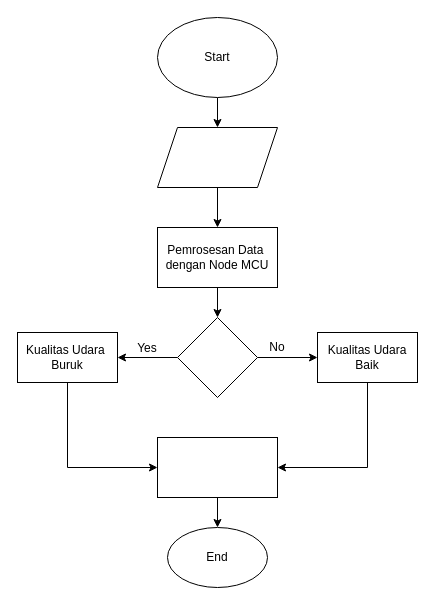
This 435x605 diagram has some shape labels left out. The box of each missing label's shape, as (x1, y1, x2, y2) in pixels:
Input Data Sensor Udara: (156, 126, 278, 188)
Mengirim Pesan Ke telegram: (156, 436, 278, 498)
Nilai ppm>999: (176, 316, 258, 398)
